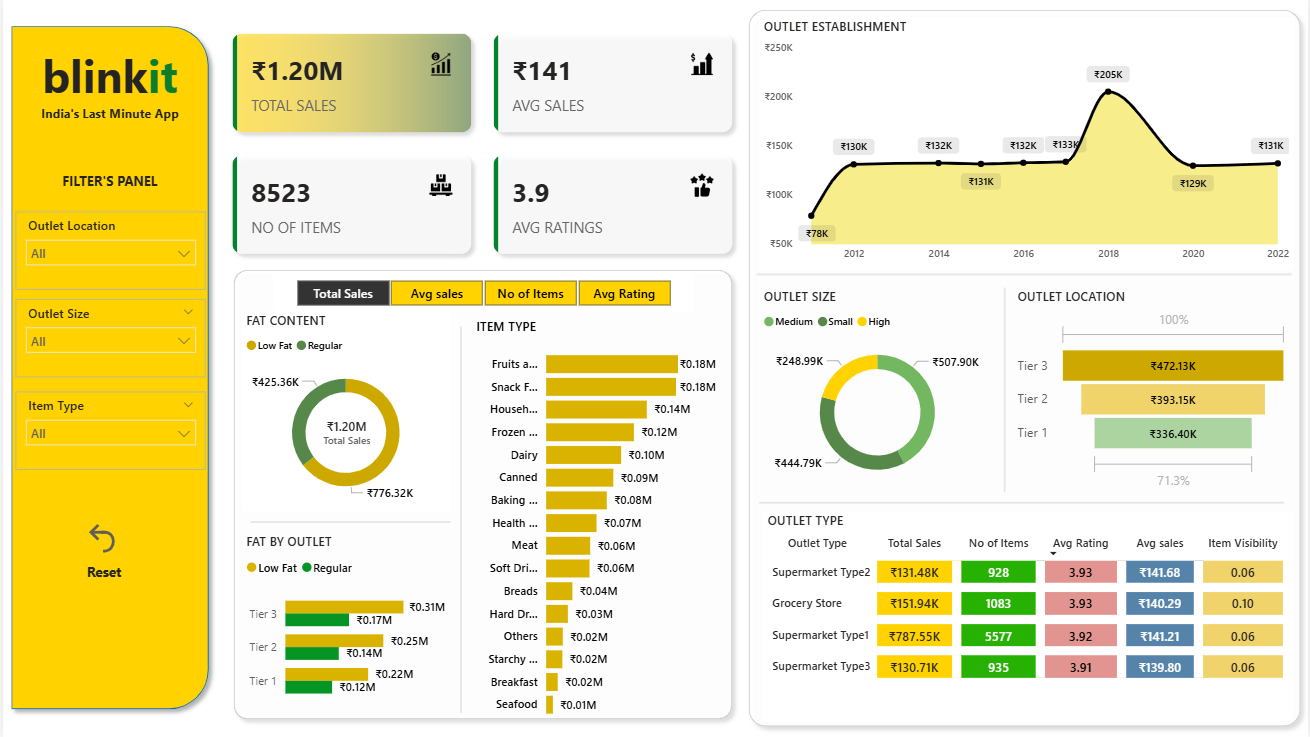

The dashboard page shown, as its layout file describes it:
{"tool":"powerbi","page":{"name":"Page 1","canvas":[1400,800],"ordinal":0},"visuals":[{"type":"shape","box":[0,25.5,229.6,750.4],"z":0},{"type":"textbox","box":[0,49.5,229.6,82.5],"z":1000},{"type":"textbox","box":[0,114.1,229.6,34.5],"z":2000},{"type":"cardVisual","fields":{"Data":["BlinkIT Grocery Data.Total Sales","BlinkIT Grocery Data.Avg sales","BlinkIT Grocery Data.No of Items","BlinkIT Grocery Data.Avg Rating"]},"box":[229.6,25.5,570.3,270.2],"z":3000},{"type":"shape","box":[238.6,286.7,552.3,499.8],"z":4000},{"type":"donutChart","title":"FAT CONTENT","fields":{"Y":["BlinkIT Grocery Data.Total Sales"],"Category":["BlinkIT Grocery Data.Item Fat Content"]},"box":[256.6,340.7,223.6,214.6],"z":5000},{"type":"slicer","fields":{"Values":["Metrics.Metrics"]},"box":[289.7,300.2,450.3,40.5],"z":6000},{"type":"cardVisual","fields":{"Data":["BlinkIT Grocery Data.Total Sales"]},"box":[321.2,436.8,94.6,64.5],"z":7000},{"type":"clusteredBarChart","title":"FAT BY OUTLET","fields":{"Y":["BlinkIT Grocery Data.Total Sales"],"Category":["BlinkIT Grocery Data.Outlet Location Type"],"Series":["BlinkIT Grocery Data.Item Fat Content"]},"box":[256.6,577.8,223.6,193.6],"z":8000},{"type":"shape","box":[265.7,555.3,214.6,22.5],"z":9000},{"type":"shape","box":[468.3,357.2,46.5,414.2],"z":10000},{"type":"barChart","title":"ITEM TYPE","fields":{"Y":["BlinkIT Grocery Data.Total Sales"],"Category":["BlinkIT Grocery Data.Item Type"]},"box":[502.8,346.7,267.2,439.8],"z":11000},{"type":"shape","box":[791,7.5,609.4,786.5],"z":12000},{"type":"lineChart","title":"OUTLET ESTABLISHMENT","fields":{"Y":["BlinkIT Grocery Data.Total Sales"],"Category":["BlinkIT Grocery Data.Outlet Establishment Year"]},"box":[810.5,25.5,573.3,270.2],"z":13000},{"type":"donutChart","title":"OUTLET SIZE","fields":{"Y":["BlinkIT Grocery Data.Total Sales"],"Category":["BlinkIT Grocery Data.Outlet Size"]},"box":[810.5,315.2,253.6,222.1],"z":14000},{"type":"shape","box":[1050.6,315.2,46.5,219.1],"z":15000},{"type":"funnel","title":"OUTLET LOCATION","fields":{"Y":["BlinkIT Grocery Data.Total Sales"],"Category":["BlinkIT Grocery Data.Outlet Location Type"]},"box":[1083.6,315.2,300.2,222.1],"z":16000},{"type":"shape","box":[810.5,526.8,562.8,37.5],"z":17000},{"type":"pivotTable","title":"OUTLET TYPE","fields":{"Rows":["BlinkIT Grocery Data.Outlet Type"],"Values":["BlinkIT Grocery Data.Total Sales","BlinkIT Grocery Data.No of Items","BlinkIT Grocery Data.Avg Rating","BlinkIT Grocery Data.Avg sales","Avg(BlinkIT Grocery Data.Item Visibility)"]},"box":[815,555.3,568.8,225.1],"z":18000},{"type":"slicer","fields":{"Values":["BlinkIT Grocery Data.Outlet Location Type"]},"box":[13.5,232.6,204.1,84],"z":19000},{"type":"shape","box":[809,295.7,573.3,9],"z":20000},{"type":"slicer","fields":{"Values":["BlinkIT Grocery Data.Outlet Size"]},"box":[13.5,327.2,204.1,84],"z":21000},{"type":"slicer","fields":{"Values":["BlinkIT Grocery Data.Item Type"]},"box":[13.5,426.2,204.1,84],"z":22000},{"type":"textbox","box":[0,186.1,229.6,34.5],"z":23000},{"type":"actionButton","box":[85.2,563,45.7,41.1],"z":24000},{"type":"textbox","box":[42.6,604.1,130.9,35],"z":24001}]}

Visuals, with their boxes in screenshot pixels (x1, y1, x2, y2), scaled from the page's 1400x800 canvas onto the 1310x737 screenshot:
shape: region(0, 23, 215, 715)
textbox: region(0, 46, 215, 122)
textbox: region(0, 105, 215, 137)
cardVisual - BlinkIT Grocery Data.Total Sales x BlinkIT Grocery Data.Avg sales: region(215, 23, 748, 272)
shape: region(223, 264, 740, 725)
"FAT CONTENT" donutChart: region(240, 314, 449, 512)
slicer - Metrics.Metrics: region(271, 277, 692, 314)
cardVisual - BlinkIT Grocery Data.Total Sales: region(301, 402, 389, 462)
"FAT BY OUTLET" clusteredBarChart: region(240, 532, 449, 711)
shape: region(249, 512, 449, 532)
shape: region(438, 329, 482, 711)
"ITEM TYPE" barChart: region(470, 319, 720, 725)
shape: region(740, 7, 1309, 731)
"OUTLET ESTABLISHMENT" lineChart: region(758, 23, 1295, 272)
"OUTLET SIZE" donutChart: region(758, 290, 996, 495)
shape: region(983, 290, 1027, 492)
"OUTLET LOCATION" funnel: region(1014, 290, 1295, 495)
shape: region(758, 485, 1285, 520)
"OUTLET TYPE" pivotTable: region(763, 512, 1295, 719)
slicer - BlinkIT Grocery Data.Outlet Location Type: region(13, 214, 204, 292)
shape: region(757, 272, 1293, 281)
slicer - BlinkIT Grocery Data.Outlet Size: region(13, 301, 204, 379)
slicer - BlinkIT Grocery Data.Item Type: region(13, 393, 204, 470)
textbox: region(0, 171, 215, 203)
actionButton: region(80, 519, 122, 557)
textbox: region(40, 557, 162, 589)
